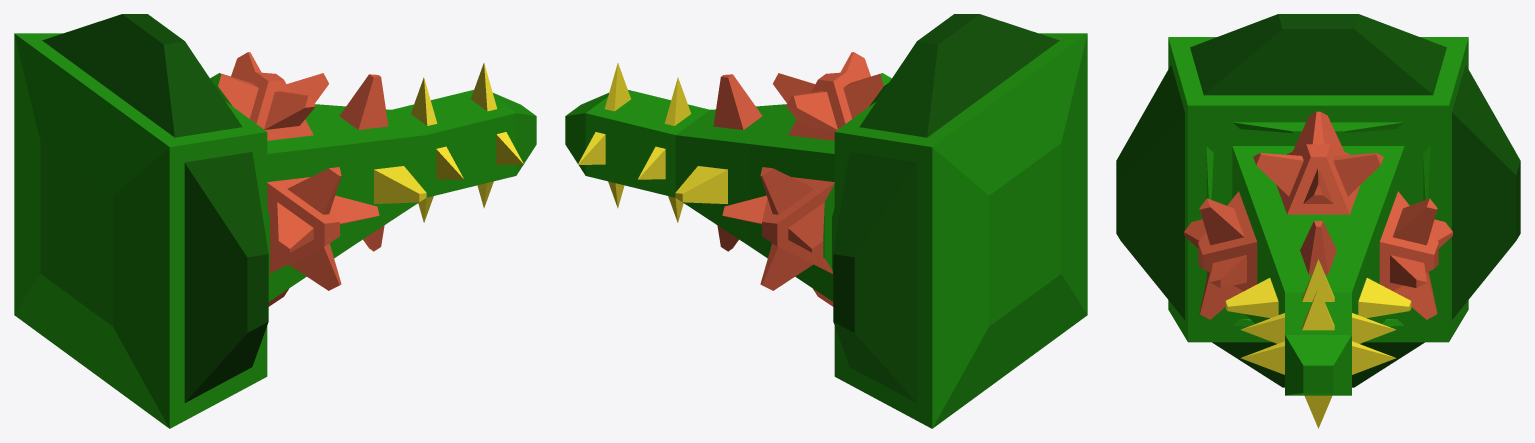
File: bulletMachine.glb
3 views of the same model, side by side, from view 1: azimuth 30°, elevation 25°; view 2: azimuth 150°, elevation 25°; view 3: azimuth 270°, elevation 25° (orthographic). The views are drawn at different scales.
Visible parts, largest first — view 1: Cube; view 2: Cube; view 3: Cube.
Boxes of the visible parts, x1=… form: Cube: x1=14, y1=14, x2=536, y2=428; Cube: x1=565, y1=14, x2=1087, y2=428; Cube: x1=1116, y1=14, x2=1520, y2=428.
Bounding box in the file's own units: 3.36 × 2.69 × 2.69.
1 material, 1 textured.
